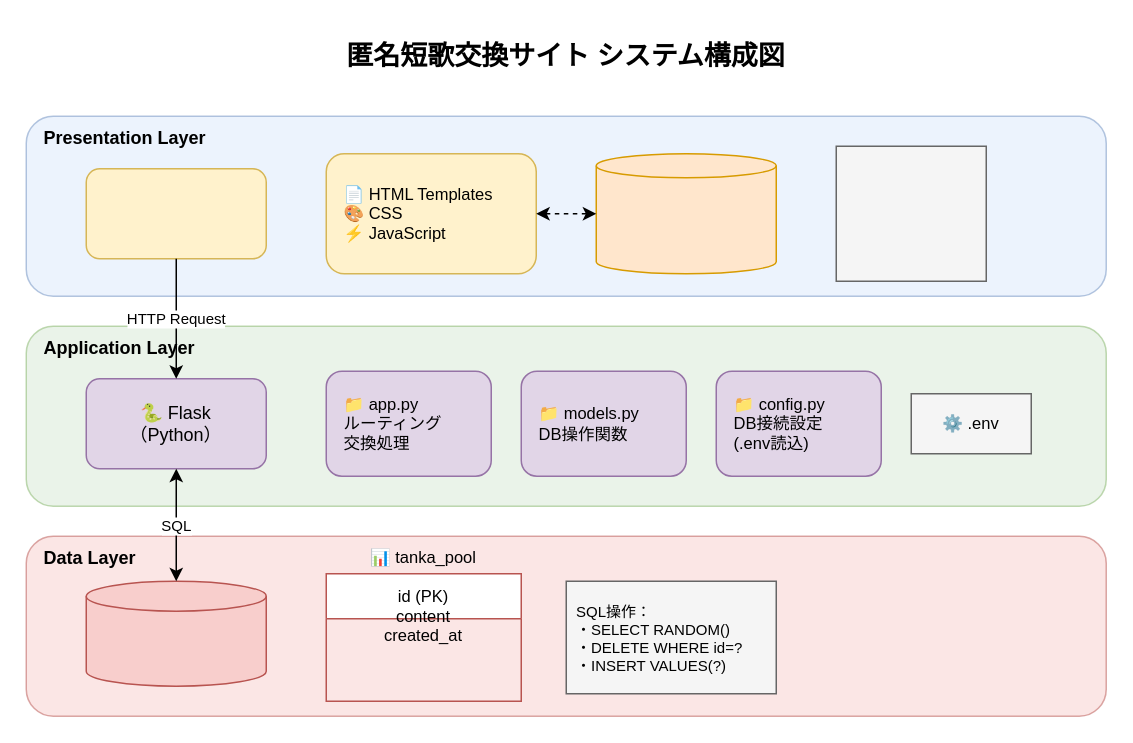
The diagram is 1133 pixels wide and 743 high, and some of its shapes have lost their labels. Here are the shapes that lost their labels. From the top down, the box of each, then its label:
(85, 167, 266, 259): 🌐 ブラウザ （Web UI）
(595, 152, 776, 274): 💾 LocalStorage （受信履歴保存）
(835, 145, 986, 281): 画面： ・ホーム画面 ・投稿画面 ・結果画面 ・履歴画面
(85, 580, 266, 686): 🐘 PostgreSQL
